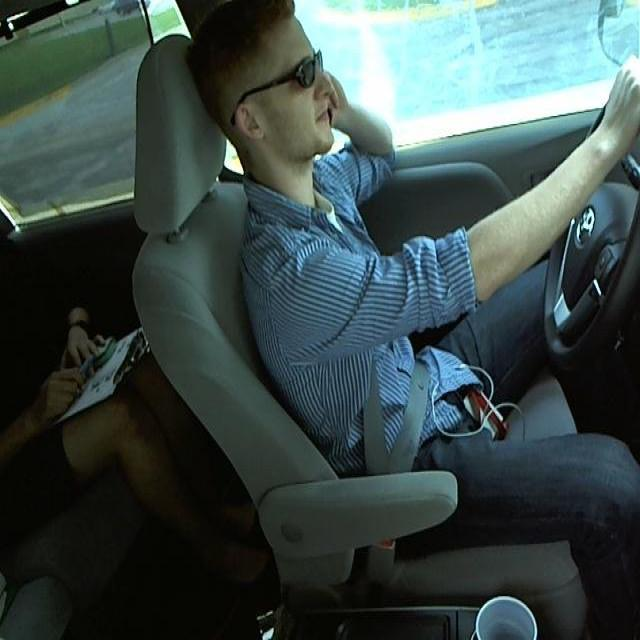using_phone: (182, 9, 378, 231)
